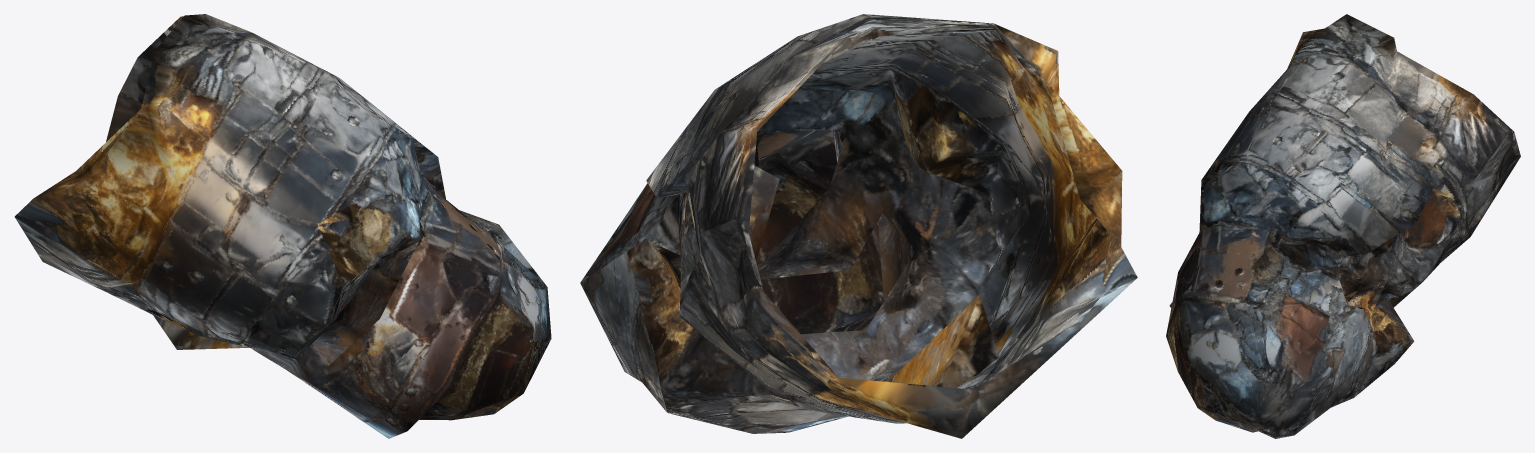
Rendered from salvage_fragment.glb.
3 views of the same model, side by side, from view 1: azimuth 30°, elevation 25°; view 2: azimuth 150°, elevation 25°; view 3: azimuth 270°, elevation 25° (orthographic). The views are drawn at different scales.
Visible parts, largest first — view 1: low; view 2: low; view 3: low.
Part boxes in pixels (x1,y1,x2,y2): low: (14, 14, 551, 438); low: (580, 14, 1137, 438); low: (1166, 14, 1520, 438).
Bounding box in the file's own units: 1 × 0.7906 × 0.8002.
1 material, 1 textured.
